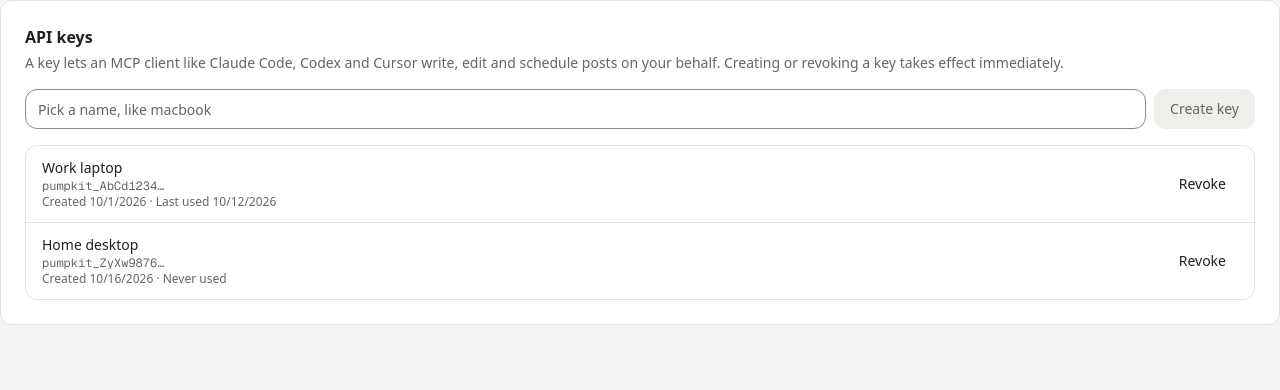
ApiKeysSection › revokes a key after the User confirms
Click the button with aria-label "Revoke Work laptop" at (1202, 184), box [1167,164,1238,204]
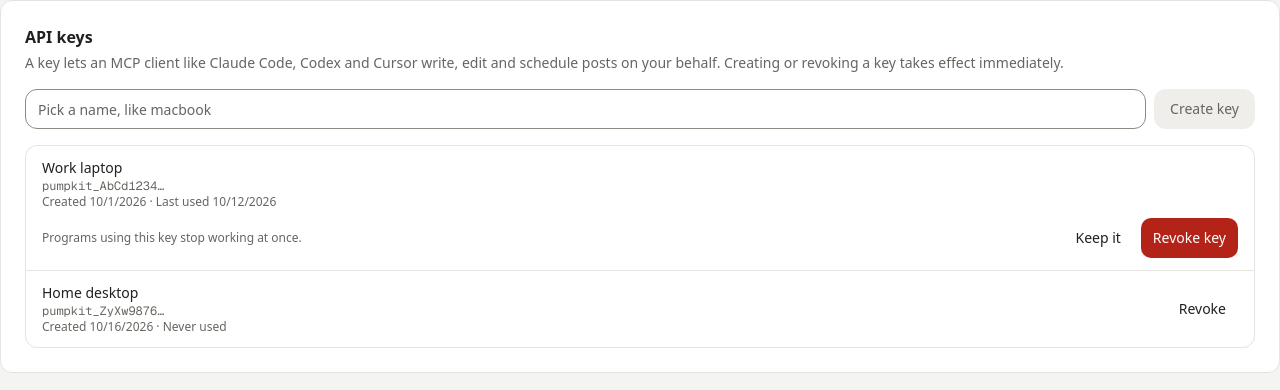
Click the button "Revoke key" at (1189, 238), box [1141,218,1238,258]
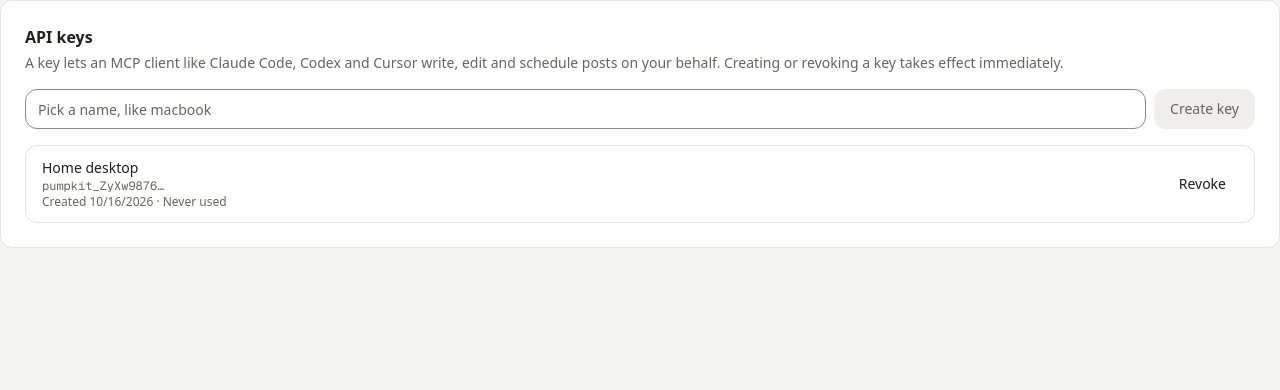
Expected: the list item "Home desktop" is shown, [26,146,1254,222]
Expected: the text "Work laptop" is gone
